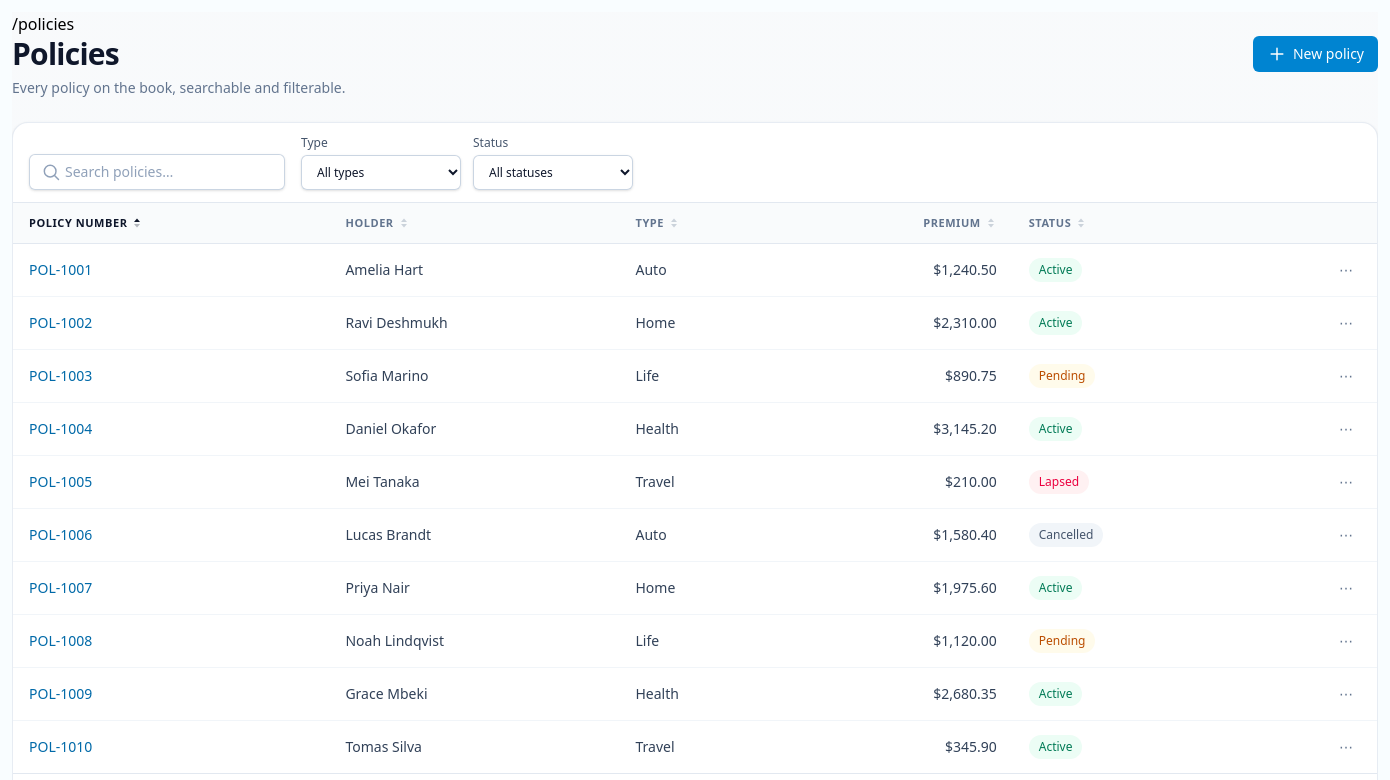
Test: PolicyListPage › reports an empty result set
Expected: the link "POL-1001" is shown, 29,260 -> 92,279
Type "zzzzz" into the search field with placeholder "Search policies…".
click(157, 172); type("zzzzz")  # box 29,154 -> 285,190
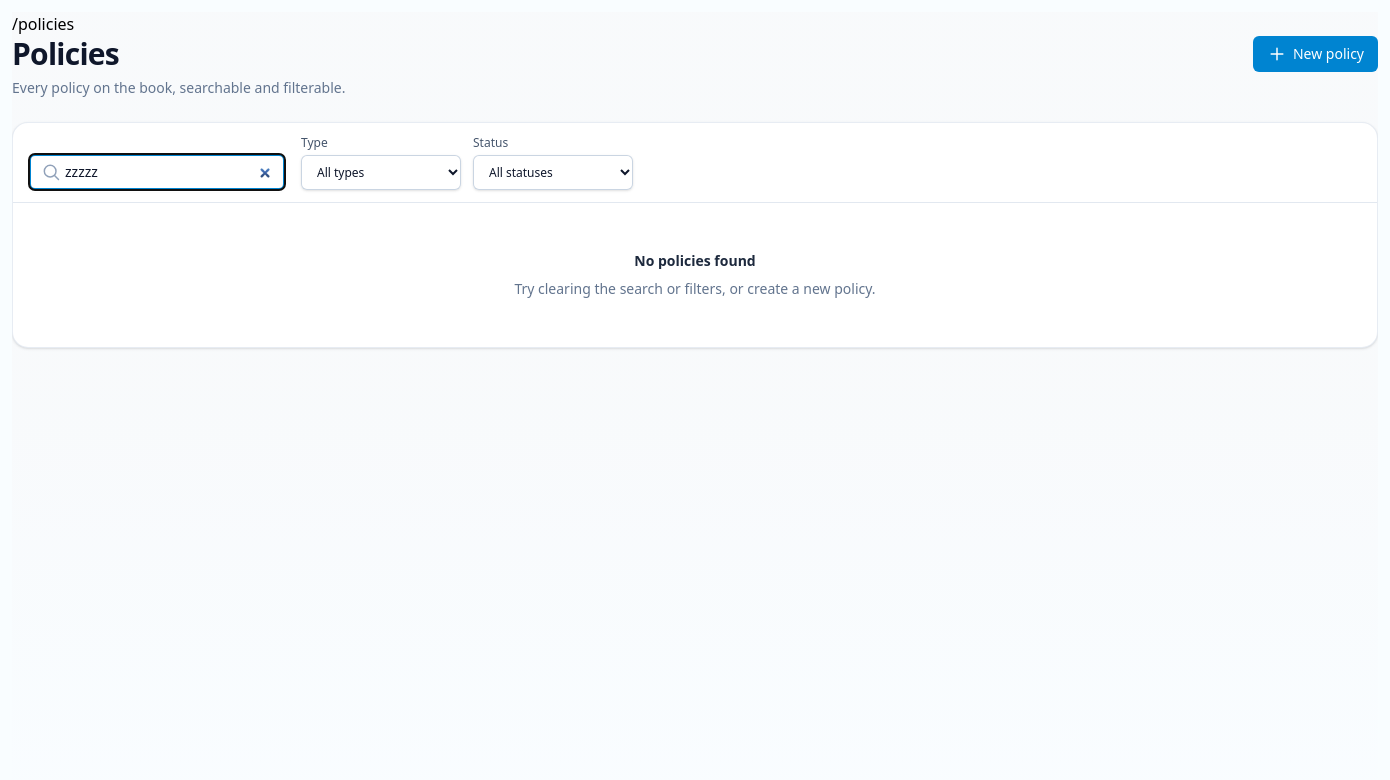
Expected: the text "No policies found" is shown, 634,251 -> 756,271
